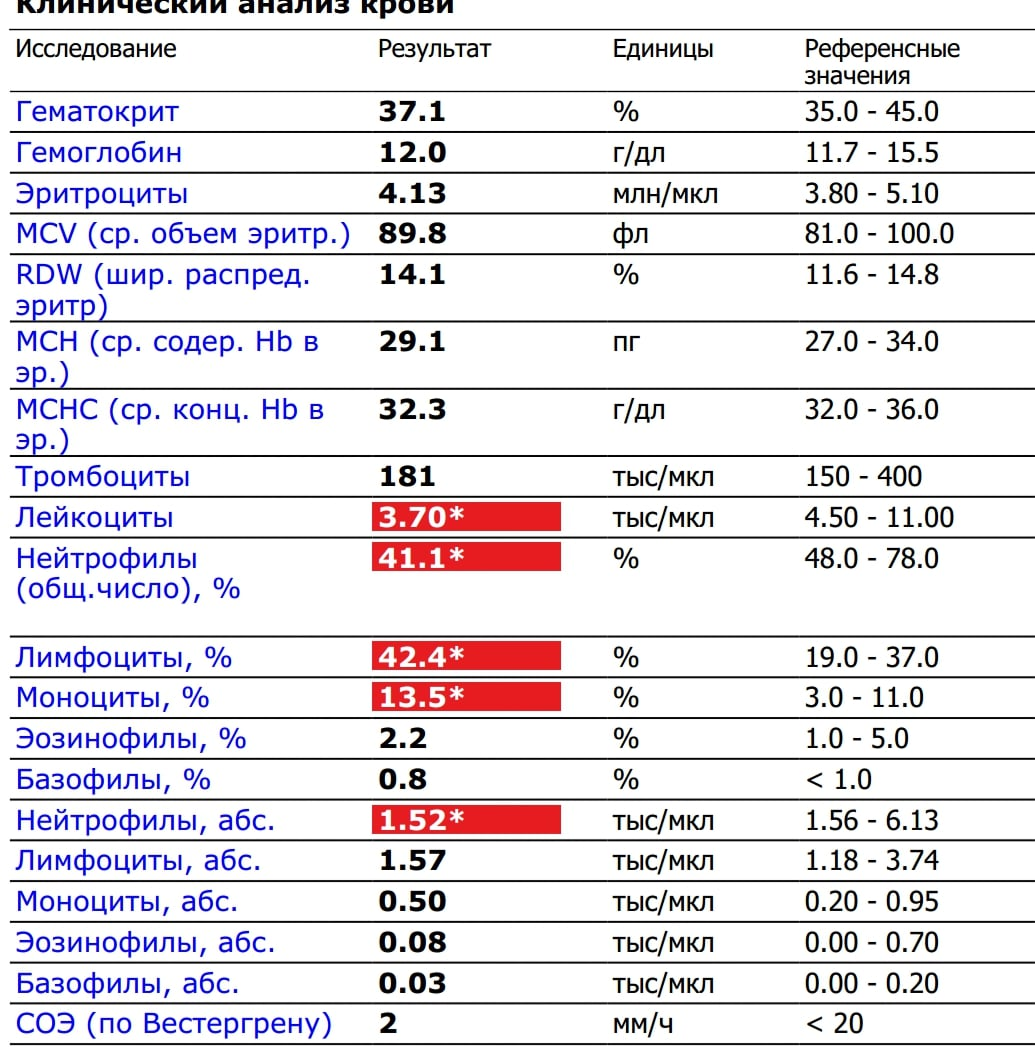column: (14, 29, 350, 1044), (803, 29, 961, 1044), (377, 29, 492, 1044), (612, 29, 719, 1044)
